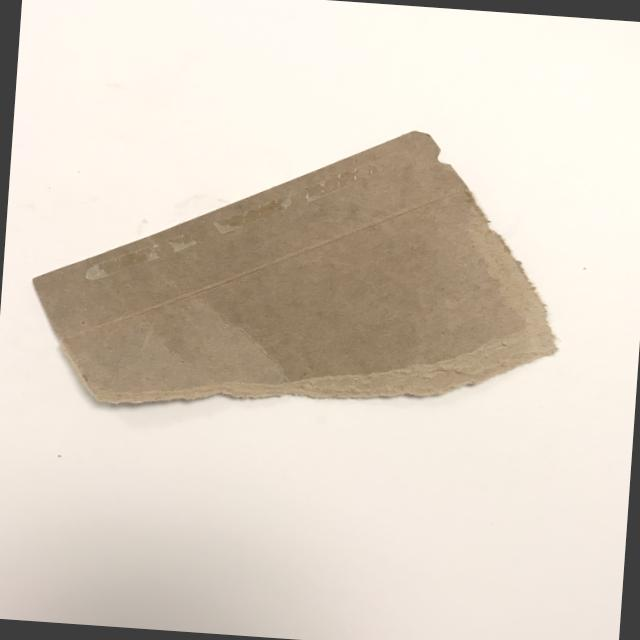Paper: (1, 88, 586, 474)
